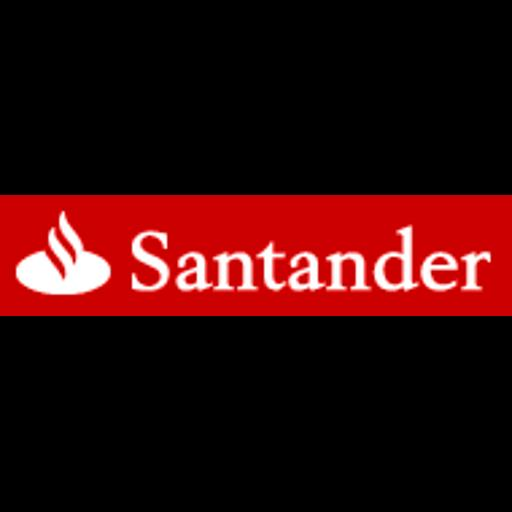Grupo Santander: (0, 195, 512, 316)
